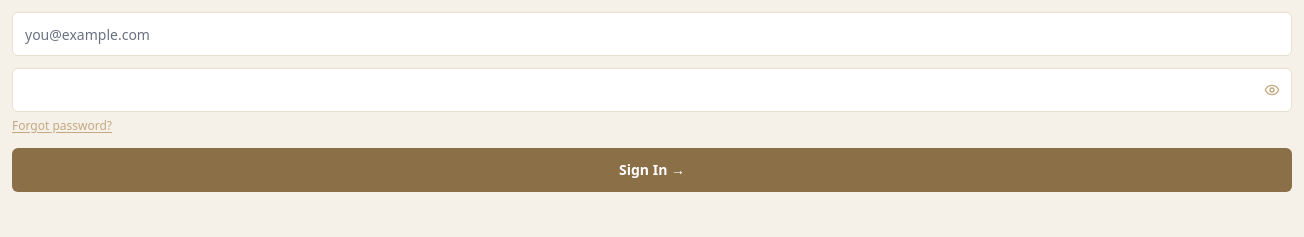
LoginForm › wrong credentials shows inline error
Type "test@example.com" into the field named "Email" at {"x": 652, "y": 34}, box [12, 12, 1292, 56]
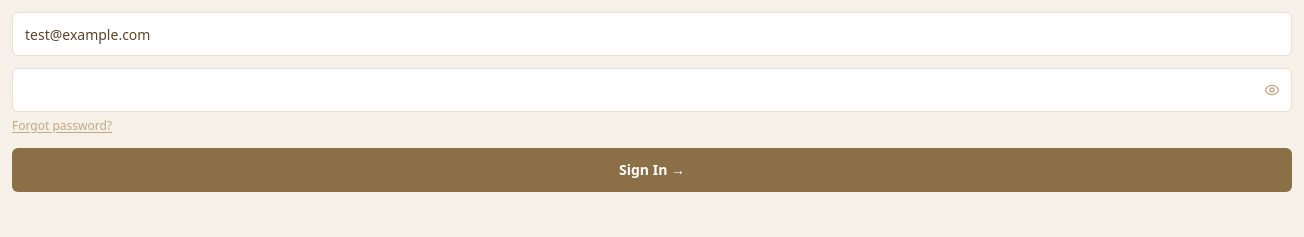
Type "bad" into the password field named "Password" at {"x": 652, "y": 90}, box [12, 68, 1292, 112]
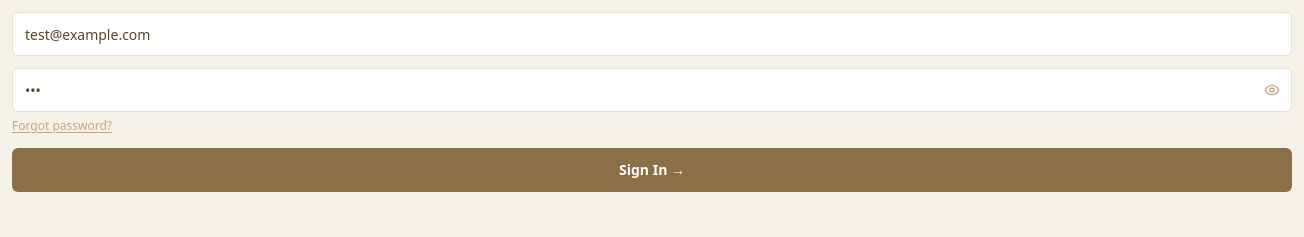
Click the button "Sign In →" at {"x": 652, "y": 170}, box [12, 148, 1292, 192]
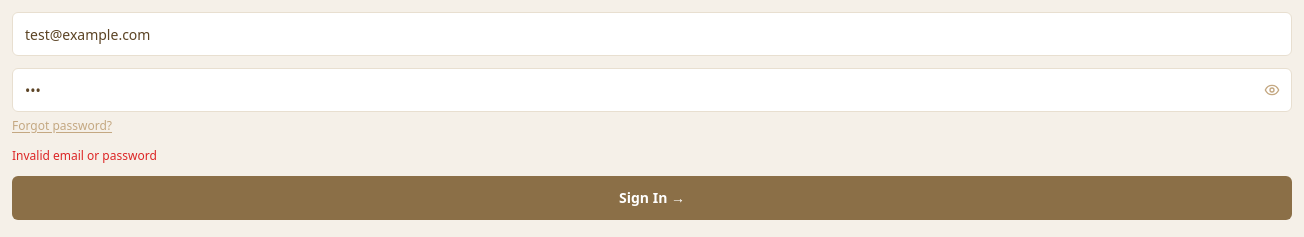
Expected: the text "Invalid email or password" is shown, [12, 147, 157, 164]
